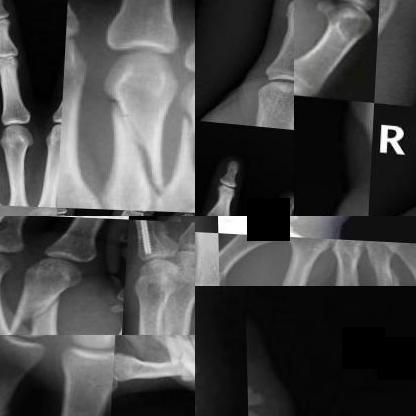fracture: (106, 96, 177, 199), (8, 281, 83, 334), (171, 109, 194, 201), (130, 218, 162, 266), (115, 348, 144, 399), (153, 335, 194, 370), (365, 262, 408, 285), (325, 269, 368, 285)
